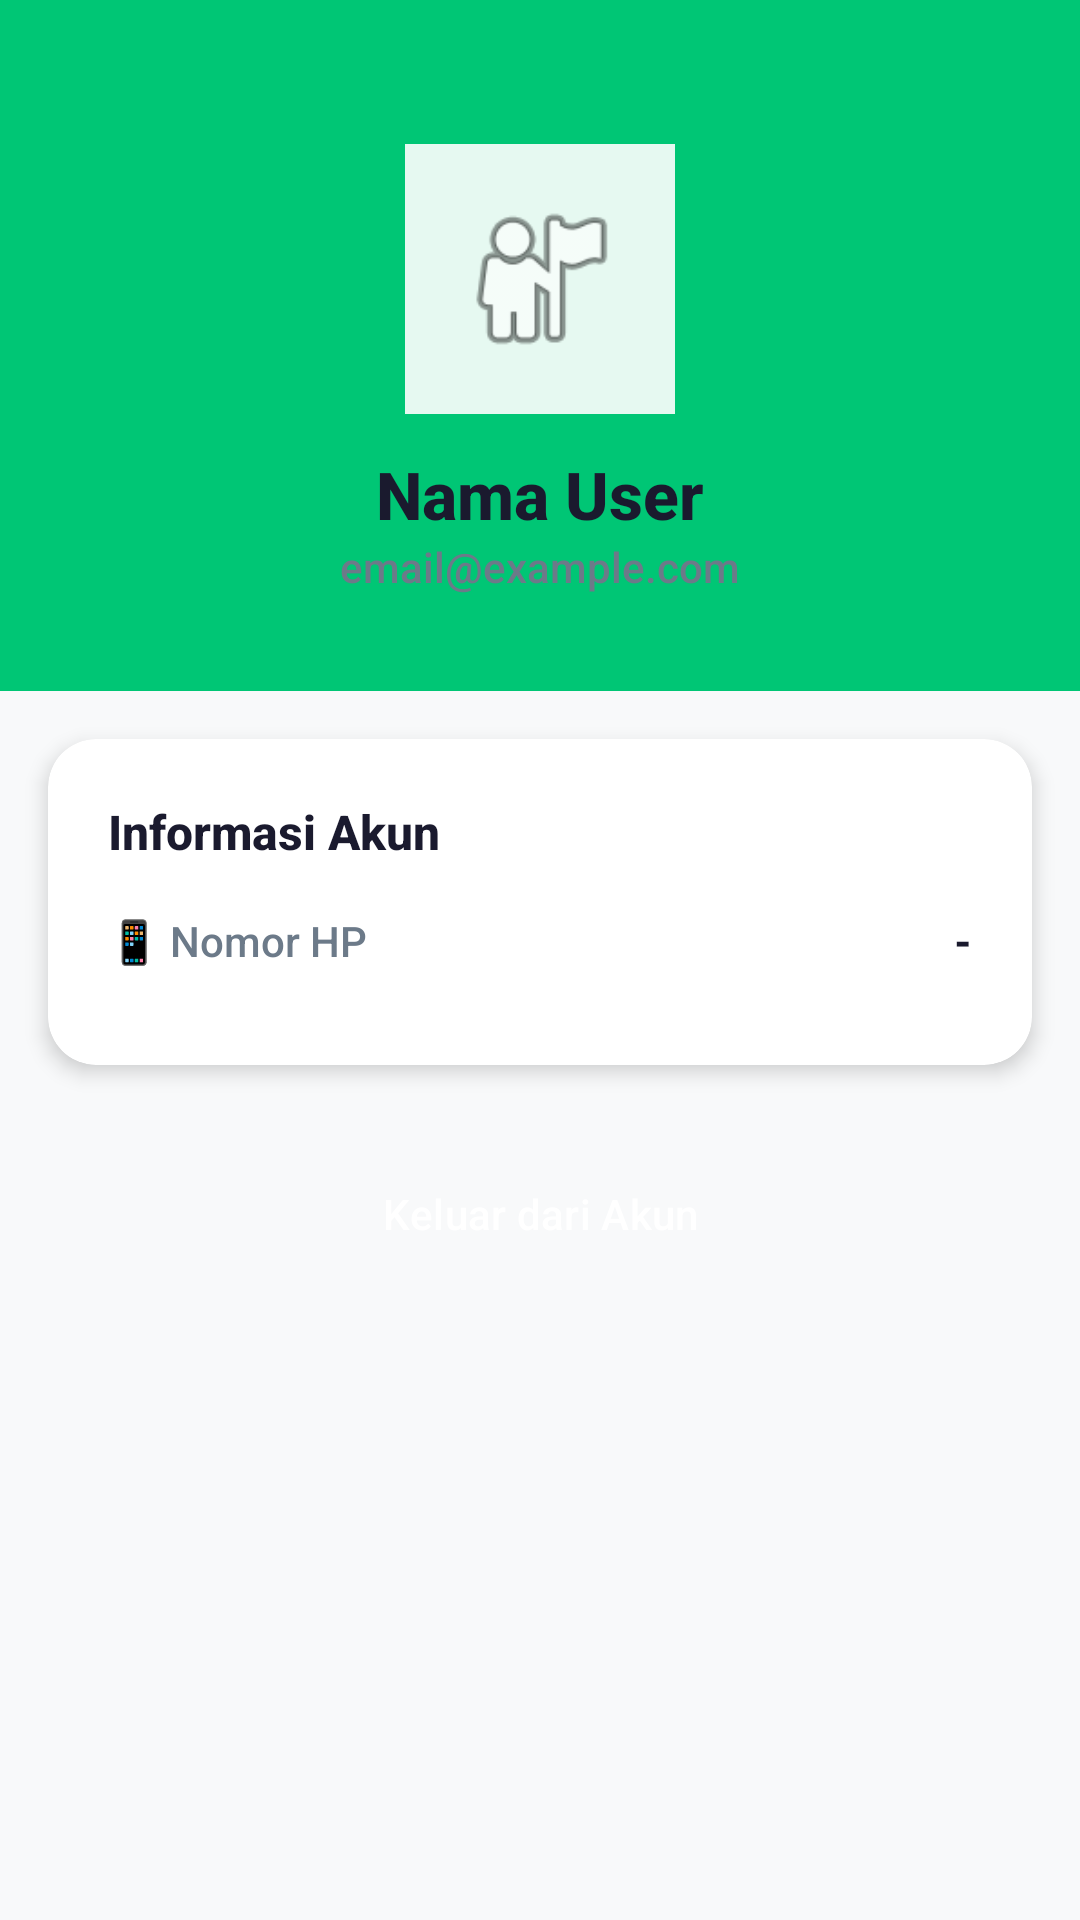

Named icons in this screenshot (1080*1920) and their centers, (x=x, y=y):
myplaces: (x=540, y=279)
